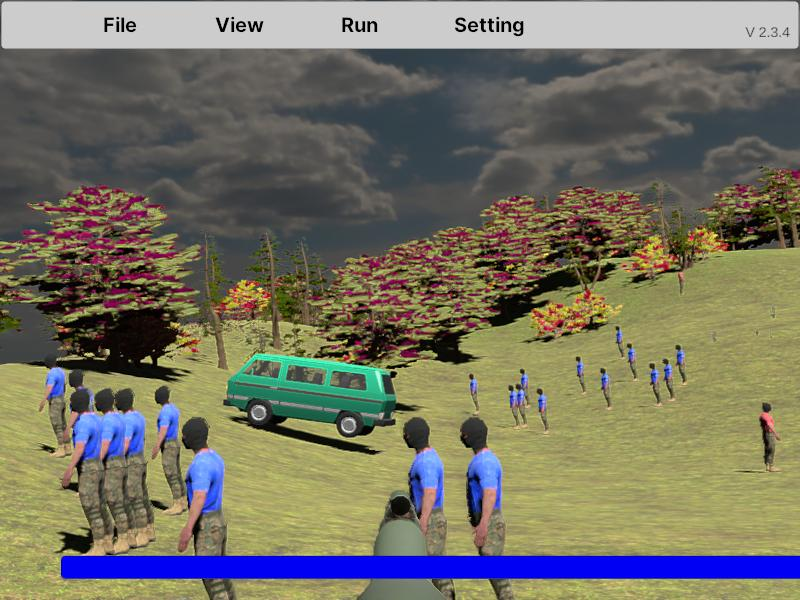Human: (460, 416, 522, 600), (178, 416, 239, 600), (61, 389, 123, 556), (405, 417, 459, 600), (117, 387, 154, 547), (118, 391, 156, 546), (94, 386, 129, 554), (153, 384, 190, 515), (39, 353, 71, 458), (760, 401, 781, 473)
car: (225, 354, 398, 439)
